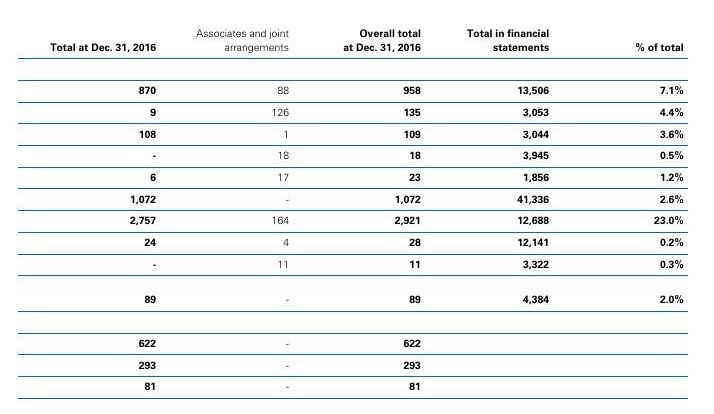table: (0, 0, 714, 414)
